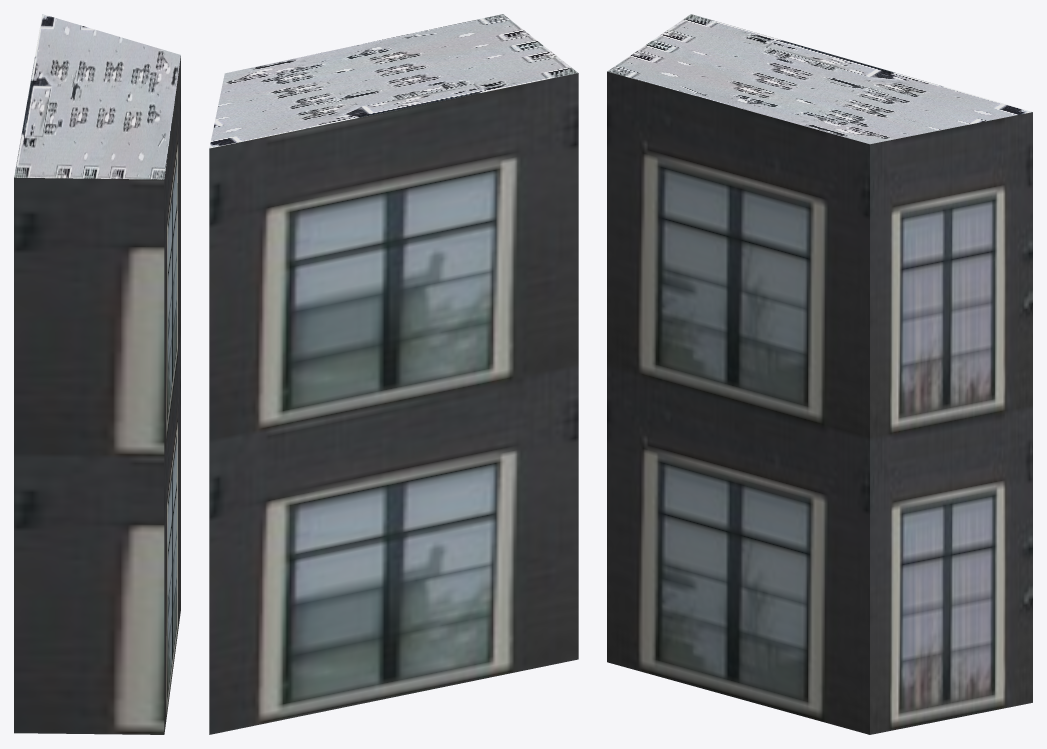
File: ResTex__4394.fbx
3 views of the same model, side by side, from view 1: azimuth 30°, elevation 25°; view 2: azimuth 150°, elevation 25°; view 3: azimuth 270°, elevation 25° (orthographic). The views are drawn at different scales.
Parts seen in each view (by area): view 1: CityEngineMaterial_22_m, CityEngineMaterial_m; view 2: CityEngineMaterial_22_m, CityEngineMaterial_m; view 3: CityEngineMaterial_22_m, CityEngineMaterial_m.
Boxes of the visible parts, x1,y1,x2,y2 form: CityEngineMaterial_22_m: [14, 56, 180, 734]; CityEngineMaterial_m: [14, 14, 180, 179]; CityEngineMaterial_22_m: [209, 73, 578, 734]; CityEngineMaterial_m: [209, 14, 577, 148]; CityEngineMaterial_22_m: [607, 71, 1032, 734]; CityEngineMaterial_m: [607, 14, 1032, 144].
Bounding box in the file's own units: 2.84 × 6 × 3.92.
2 materials, 2 textured.
